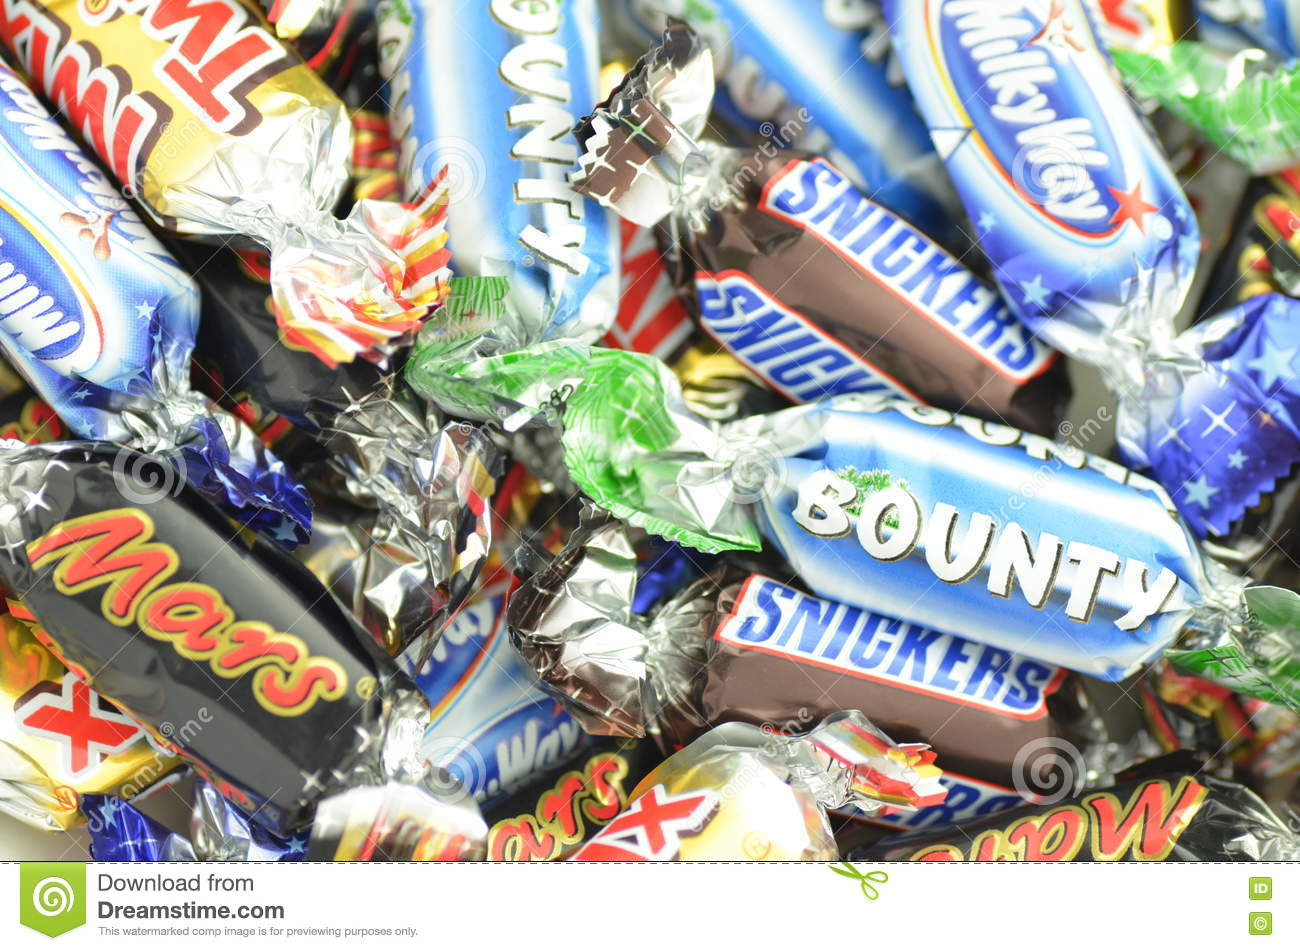snickers: (769, 159, 1052, 366), (730, 576, 1086, 712), (730, 576, 1048, 712), (689, 282, 889, 398), (730, 576, 1086, 636)
